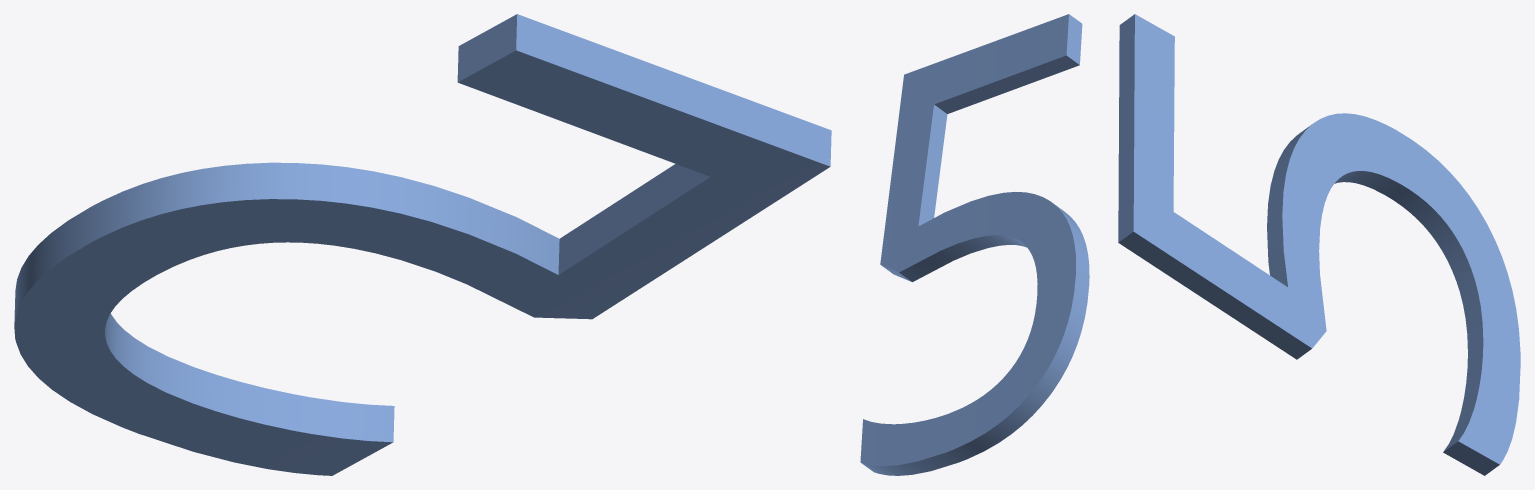
File: New_Number_5.gltf
The picture shows the model from 3 angles, left to right: view 1: azimuth 30°, elevation 25°; view 2: azimuth 150°, elevation 25°; view 3: azimuth 270°, elevation 25°; orthographic projection. The views are drawn at different scales.
Visible parts, largest first — view 1: Part 374; view 2: Part 374; view 3: Part 374.
Boxes of the visible parts, <box> form: Part 374: <box>14,14,831,475</box>; Part 374: <box>860,14,1089,475</box>; Part 374: <box>1118,14,1520,475</box>.
Size of the model in its own units: 0.00426 by 0.00494 by 0.00415.
